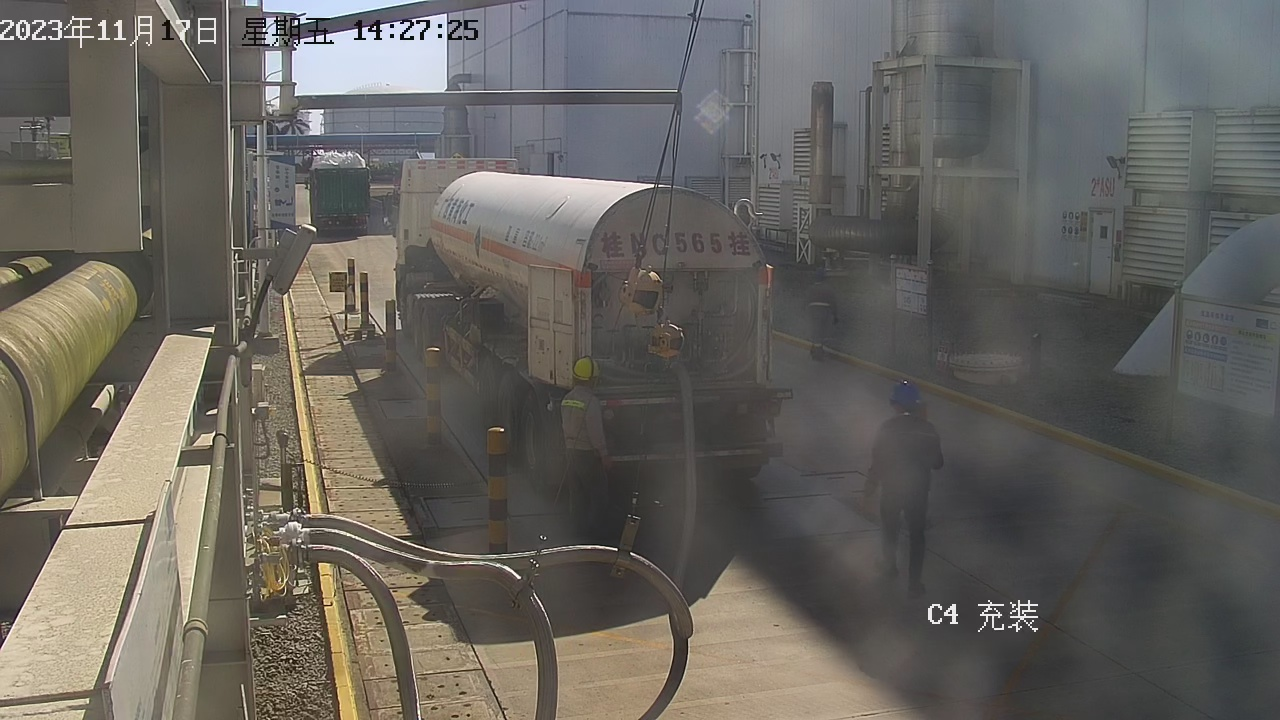Head_with_Helmet: (563, 347, 619, 390), (879, 373, 928, 418), (804, 264, 831, 286)
Uniform: (852, 406, 952, 602), (537, 376, 632, 536), (794, 279, 847, 361)
